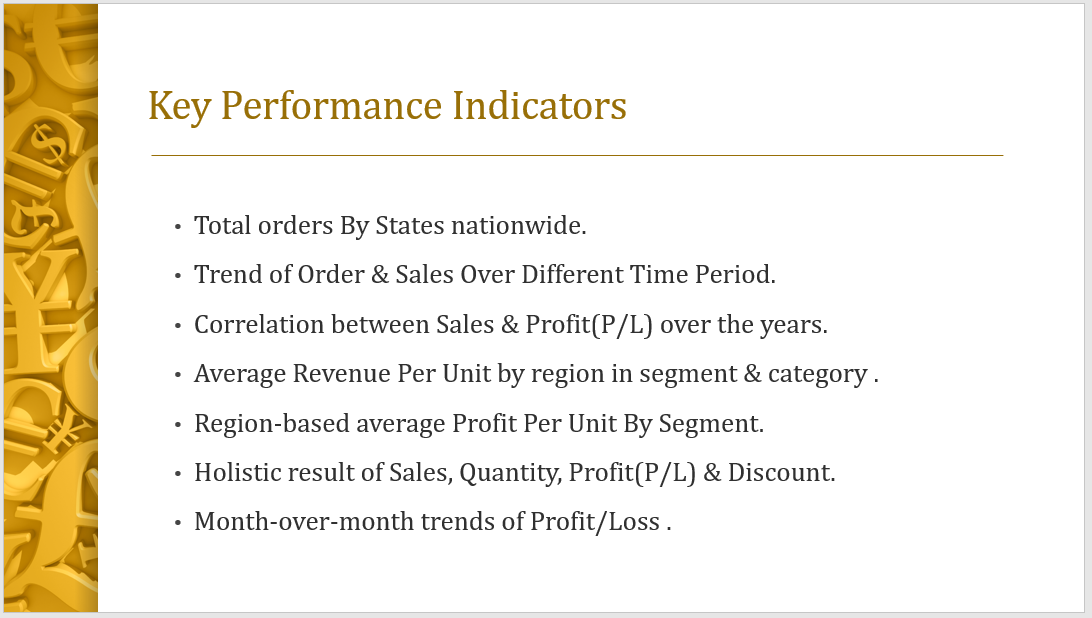

The dashboard page shown, as its layout file describes it:
{"tool":"tableau","page":{"name":"KPIs","canvas":[1000,1000],"units":"permille","ordinal":2},"visuals":[{"type":"worksheet","box":[0,0,1000,1000]},{"type":"worksheet","param":"Image/ThirdPage.PNG","box":[4.8,9.3,990.3,981.4]}]}

Visuals, with their boxes on the dashboard's canvas, which has no fixed pixel size, in thousandths of its width and height (x1, y1, x2, y2). These are canvas units, not pixel positions in the 1092x618 screenshot, which may show the page scaled, cropped or inside an application window:
worksheet: {"x1": 0, "y1": 0, "x2": 1000, "y2": 1000}
worksheet: {"x1": 5, "y1": 9, "x2": 995, "y2": 991}
